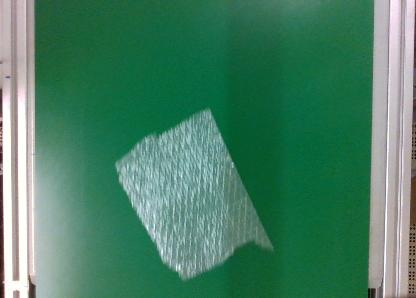Others: (114, 106, 274, 286)
